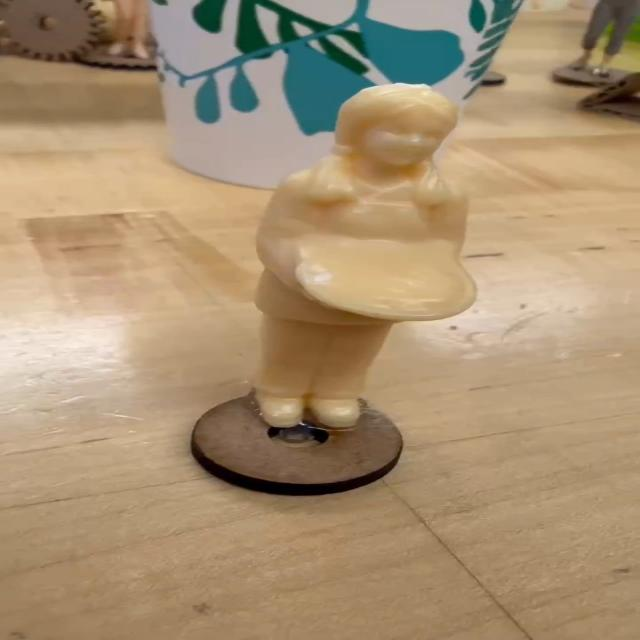Unauthorized: (246, 80, 488, 432)
